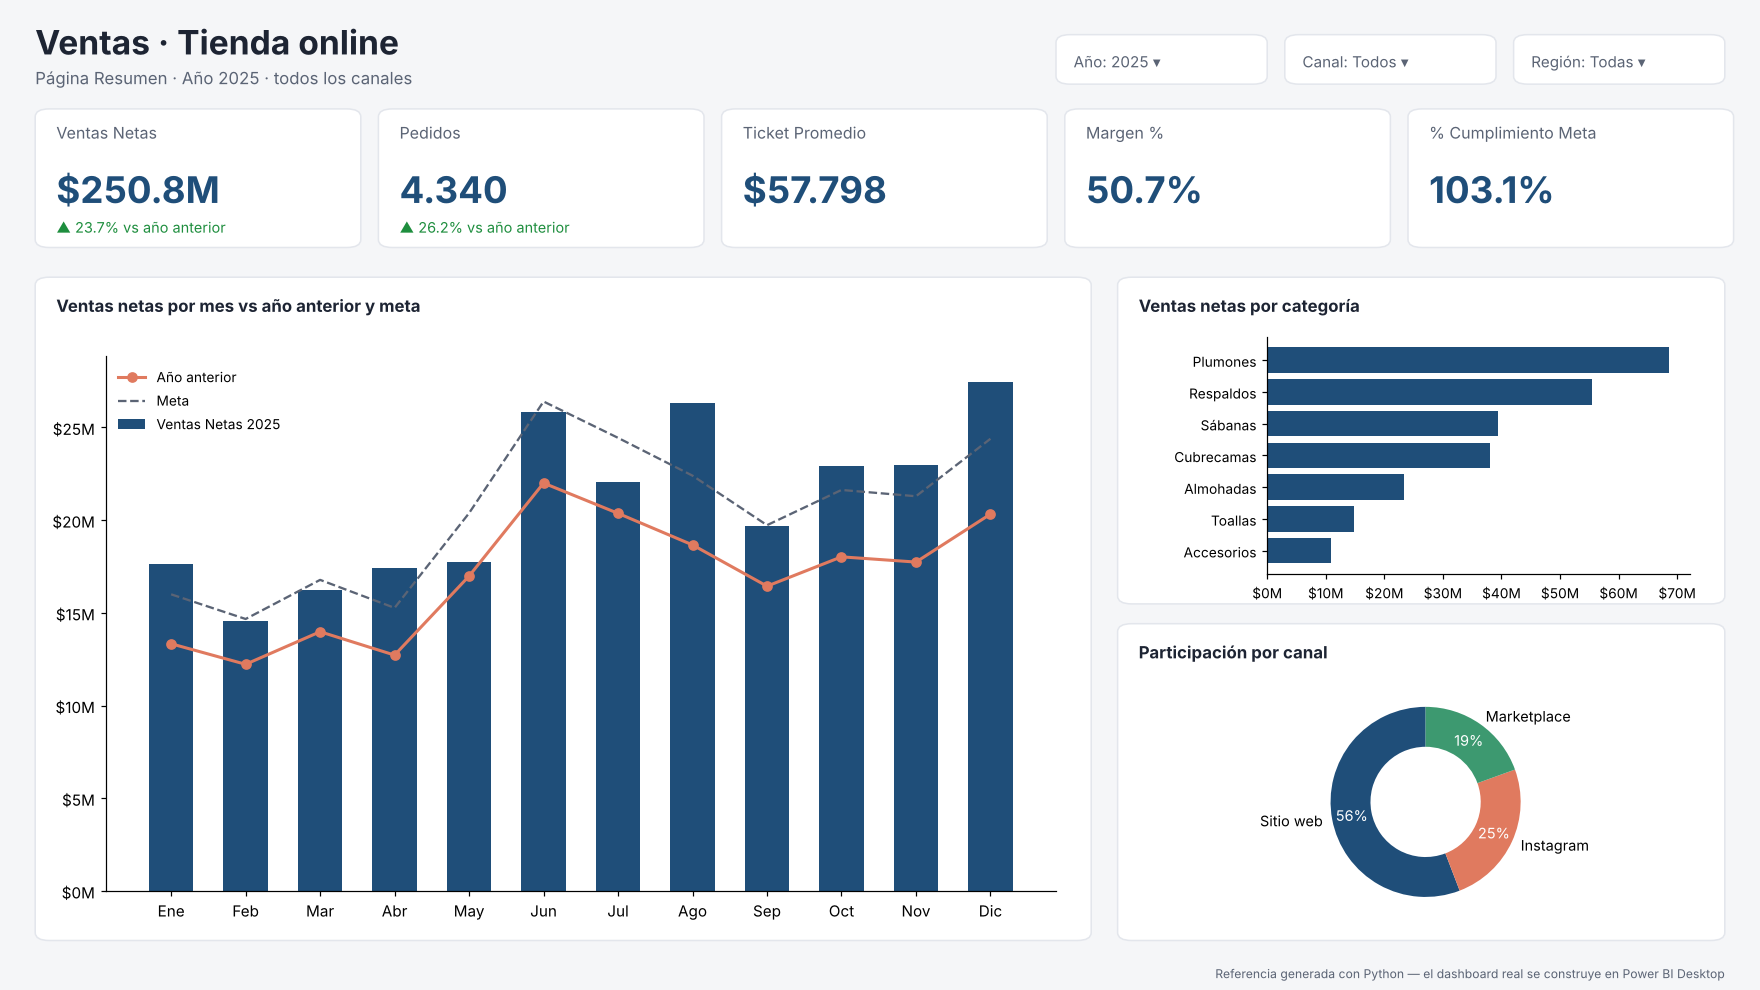

This screenshot's page, from the dashboard's own definition file:
{"tool":"powerbi","page":{"name":"Resumen","canvas":[1920,1080],"ordinal":0},"visuals":[{"type":"textbox","box":[20,12,900,80],"z":0},{"type":"slicer","fields":{"Values":["Calendario.Año"]},"box":[1060,15,270,80],"z":1000},{"type":"slicer","fields":{"Values":["Ventas.Canal"]},"box":[1345,15,270,80],"z":1001},{"type":"slicer","fields":{"Values":["Clientes.Region"]},"box":[1630,15,270,80],"z":1002},{"type":"cardVisual","fields":{"Data":["Medidas.Ventas Netas"]},"box":[20,110,360,150],"z":1003},{"type":"cardVisual","fields":{"Data":["Medidas.Pedidos (texto)"]},"box":[400,110,360,150],"z":1004},{"type":"cardVisual","fields":{"Data":["Medidas.Ticket Promedio"]},"box":[780,110,360,150],"z":1005},{"type":"cardVisual","fields":{"Data":["Medidas.Margen %"]},"box":[1160,110,360,150],"z":1006},{"type":"cardVisual","fields":{"Data":["Medidas.% Cumplimiento Meta"]},"box":[1540,110,360,150],"z":1007},{"type":"lineStackedColumnComboChart","title":"Ventas netas por mes vs año anterior y meta","fields":{"Category":["Calendario.Mes"],"Y":["Medidas.Ventas Netas"],"Y2":["Medidas.Ventas Año Anterior","Medidas.Meta"]},"box":[20,280,1150,780],"z":1008},{"type":"clusteredBarChart","title":"Ventas netas por categoría","fields":{"Category":["Productos.Categoria"],"Y":["Medidas.Ventas Netas"]},"box":[1190,280,710,380],"z":1009},{"type":"donutChart","title":"Participación por canal","fields":{"Category":["Ventas.Canal"],"Y":["Medidas.Ventas Netas"]},"box":[1190,680,710,380],"z":1010}]}

Visuals, with their boxes in screenshot pixels (x1, y1, x2, y2), scaled from the page's 1920x1080 canvas onto the 1760x990 screenshot:
textbox: (18, 11, 843, 84)
slicer - Calendario.Año: (972, 14, 1219, 87)
slicer - Ventas.Canal: (1233, 14, 1480, 87)
slicer - Clientes.Region: (1494, 14, 1742, 87)
cardVisual - Medidas.Ventas Netas: (18, 101, 348, 238)
cardVisual - Medidas.Pedidos (texto): (367, 101, 697, 238)
cardVisual - Medidas.Ticket Promedio: (715, 101, 1045, 238)
cardVisual - Medidas.Margen %: (1063, 101, 1393, 238)
cardVisual - Medidas.% Cumplimiento Meta: (1412, 101, 1742, 238)
"Ventas netas por mes vs año anterior y meta" lineStackedColumnComboChart: (18, 257, 1072, 972)
"Ventas netas por categoría" clusteredBarChart: (1091, 257, 1742, 605)
"Participación por canal" donutChart: (1091, 623, 1742, 972)
